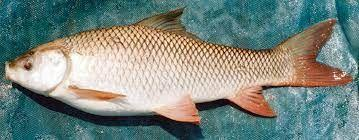Indian Carp: (5, 6, 353, 124)
